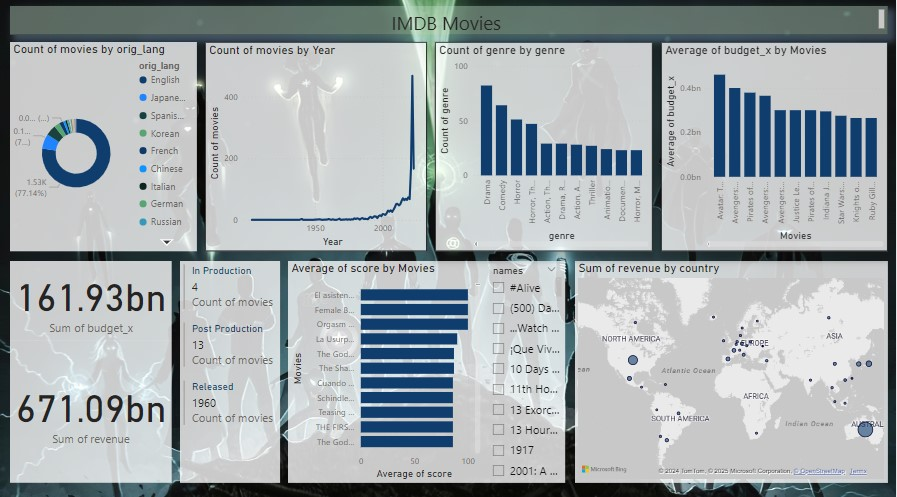

The dashboard page shown, as its layout file describes it:
{"tool":"powerbi","page":{"name":"Page 1","canvas":[1280,720],"ordinal":0},"visuals":[{"type":"map","fields":{"Category":["imdb_movies.country"],"Size":["Sum(imdb_movies.revenue)"]},"box":[821.4,374.3,447.1,317.1],"z":1000},{"type":"lineChart","fields":{"Category":["imdb_movies.date_x.Variation.Date Hierarchy.Year"],"Y":["CountNonNull(imdb_movies.status)"]},"box":[292.9,61.4,317.1,298.6],"z":2000},{"type":"multiRowCard","fields":{"Values":["imdb_movies.status","CountNonNull(imdb_movies.names)"]},"box":[257.1,374.3,142.9,317.1],"z":3000},{"type":"donutChart","fields":{"Category":["imdb_movies.orig_lang"],"Y":["CountNonNull(imdb_movies.names)"]},"box":[14.3,61.4,267.1,298.6],"z":4000},{"type":"barChart","fields":{"Category":["imdb_movies.names"],"Y":["Avg(imdb_movies.score)"]},"box":[411.4,374.3,280,317.1],"z":5000},{"type":"slicer","fields":{"Values":["imdb_movies.names"]},"box":[691.4,374.3,115.7,317.1],"z":6000},{"type":"columnChart","fields":{"Category":["imdb_movies.genre"],"Y":["CountNonNull(imdb_movies.genre)"]},"box":[621.4,61.4,311.4,298.6],"z":7000},{"type":"columnChart","fields":{"Y":["Avg(imdb_movies.budget_x)"],"Category":["imdb_movies.names"]},"box":[944.3,61.4,324.3,298.6],"z":8000},{"type":"textbox","box":[14.3,10,1254.3,41.4],"z":8001},{"type":"card","fields":{"Values":["Sum(imdb_movies.budget_x)"]},"box":[14.3,374.3,231.4,112.9],"z":8002},{"type":"card","fields":{"Values":["Sum(imdb_movies.revenue)"]},"box":[14.3,487.1,231.4,204.3],"z":8003}]}

Visuals, with their boxes in screenshot pixels (x1, y1, x2, y2), scaled from the page's 1280x720 canvas onto the 897x497 screenshot:
map - imdb_movies.country x Sum(imdb_movies.revenue): [576,258,889,477]
lineChart - imdb_movies.date_x.Variation.Date Hierarchy.Year x CountNonNull(imdb_movies.status): [205,42,427,248]
multiRowCard - imdb_movies.status x CountNonNull(imdb_movies.names): [180,258,280,477]
donutChart - imdb_movies.orig_lang x CountNonNull(imdb_movies.names): [10,42,197,248]
barChart - imdb_movies.names x Avg(imdb_movies.score): [288,258,485,477]
slicer - imdb_movies.names: [485,258,566,477]
columnChart - imdb_movies.genre x CountNonNull(imdb_movies.genre): [435,42,654,248]
columnChart - Avg(imdb_movies.budget_x) x imdb_movies.names: [662,42,889,248]
textbox: [10,7,889,35]
card - Sum(imdb_movies.budget_x): [10,258,172,336]
card - Sum(imdb_movies.revenue): [10,336,172,477]
